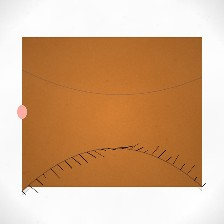pinguecula_lesion: (26, 98, 55, 122)
